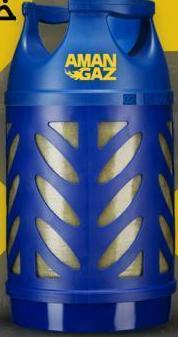cylinder: (1, 1, 178, 337)
